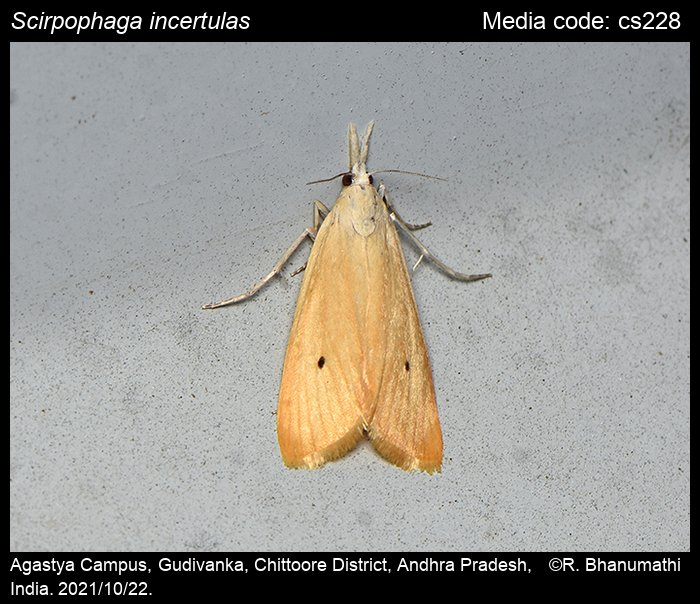Crambidae: (202, 114, 487, 478)
